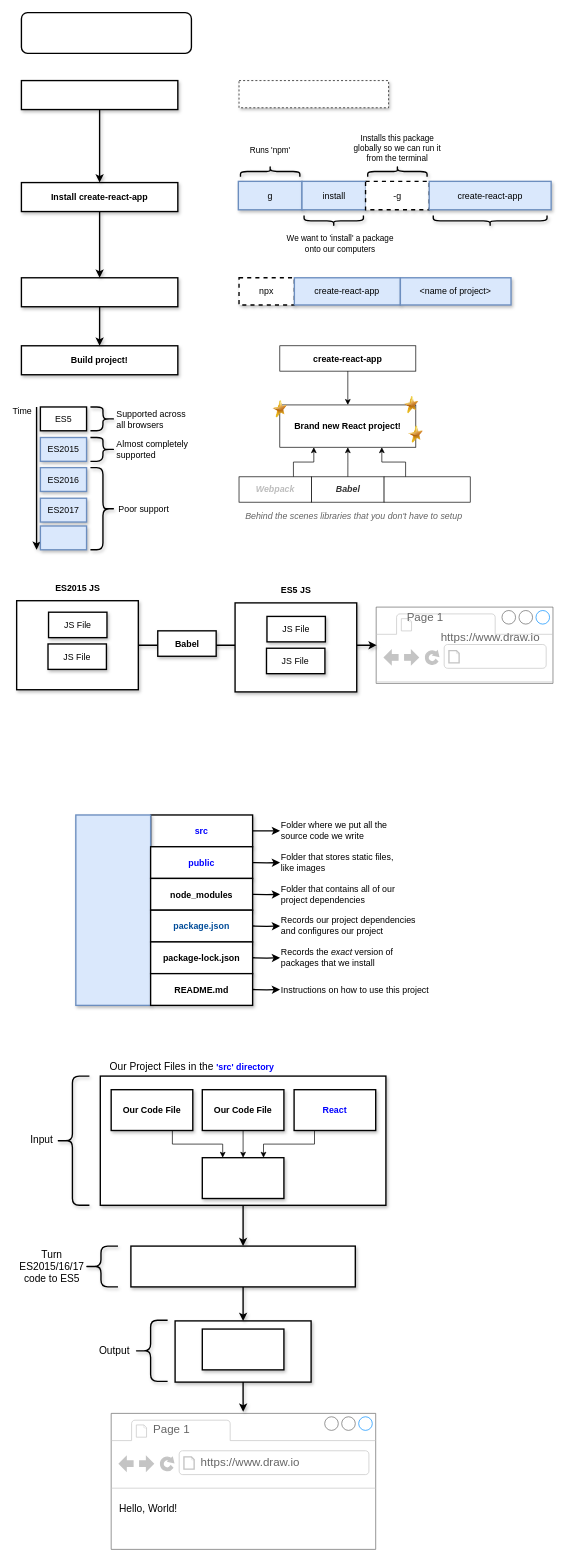
Image size: 567x1561. Some labels were removed from this diagram. Each missing label, with the centre of its shape:
"bundle.js" goes at point (243, 1350).
"Create-React-App (babel, webpack)" goes at point (243, 1267).
"Dev Server" goes at point (426, 489).
"ES2018" goes at point (64, 538).
"Generate a project" goes at point (100, 293).
"index.js" goes at point (243, 1179).
"Install/Update Node JS" goes at point (100, 96).
"Name of the package we want to install" goes at point (490, 221).
"nodejs.org/en/download" goes at point (314, 95).
"Project Directory" goes at point (113, 910).
"Setting up react environments" goes at point (106, 33).
